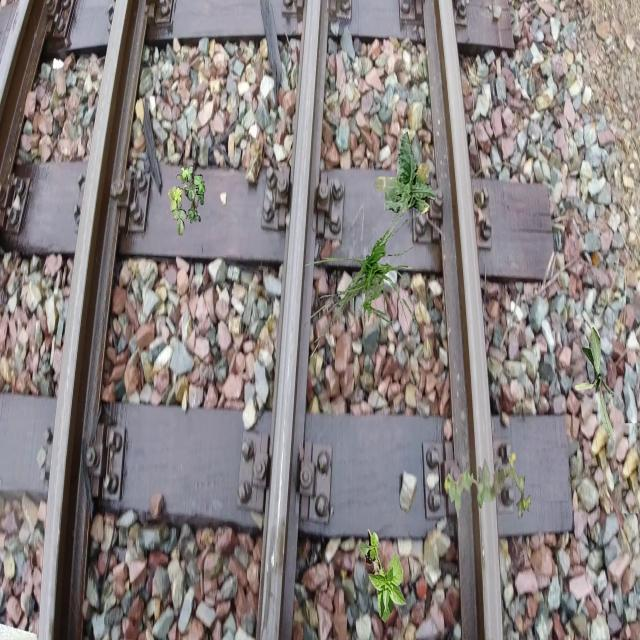Plant: (303, 196, 422, 360), (444, 452, 530, 520), (373, 131, 436, 214), (359, 529, 407, 624), (575, 327, 615, 437), (168, 162, 206, 236)
